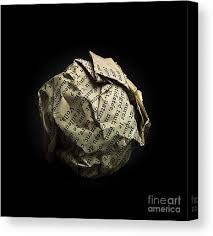crumpled paper: (35, 51, 150, 180)
